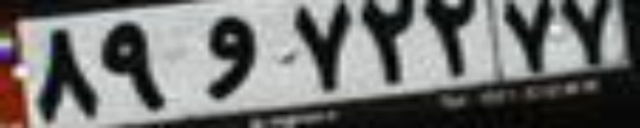2: (419, 1, 486, 77), (360, 0, 414, 84)
7: (292, 1, 350, 93), (557, 0, 623, 65), (502, 0, 559, 74)
8: (35, 26, 100, 121)
9: (94, 20, 166, 110)
vav: (194, 15, 257, 101)
